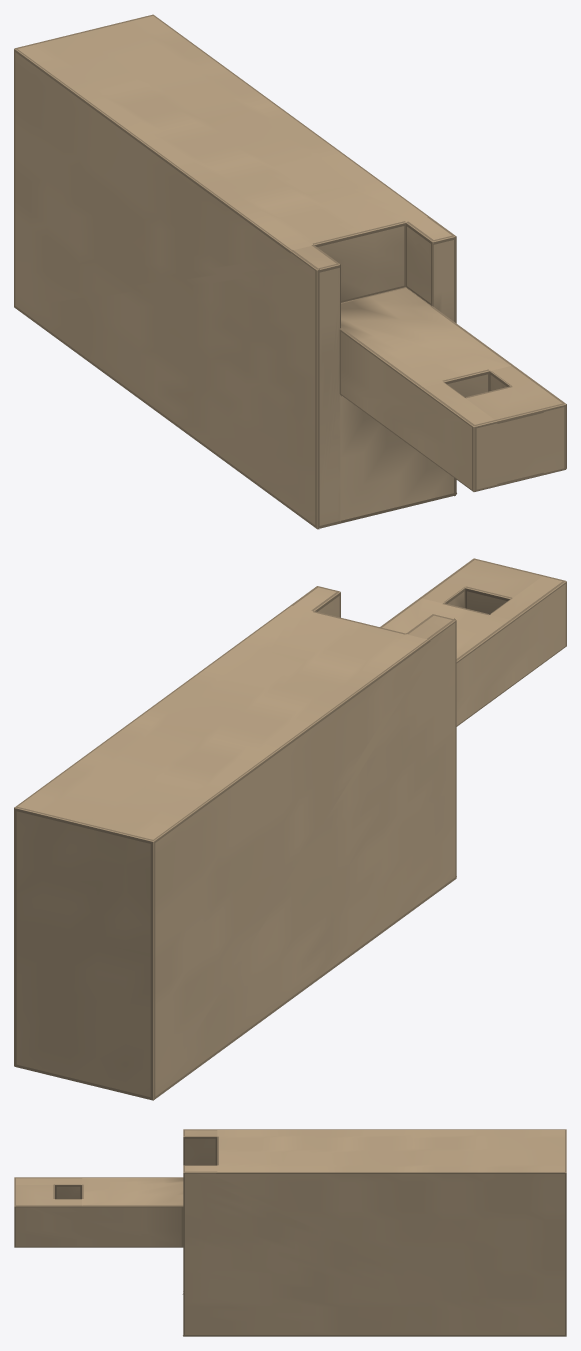
3 views of the same model, one above another, from view 1: azimuth 30°, elevation 25°; view 2: azimuth 150°, elevation 25°; view 3: azimuth 270°, elevation 25° (orthographic). The views are drawn at different scales.
Visible parts, largest first — view 1: part-d; view 2: part-d; view 3: part-d.
Part boxes in pixels (box(x1,y1,x2,y2)): part-d: box(14, 14, 566, 529); part-d: box(14, 558, 566, 1100); part-d: box(14, 1129, 566, 1336).
Size of the model in its own units: 0.0908 by 0.1612 by 0.4908.
